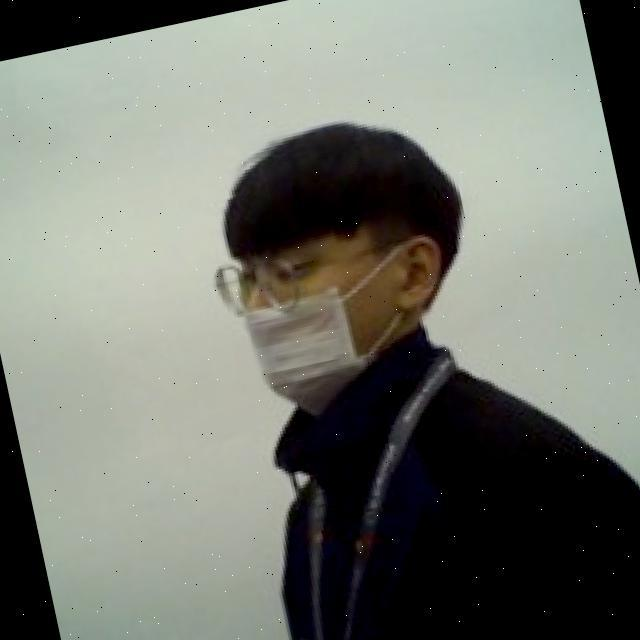mask: (221, 229, 463, 425)
no_gloves: (195, 92, 470, 299)
